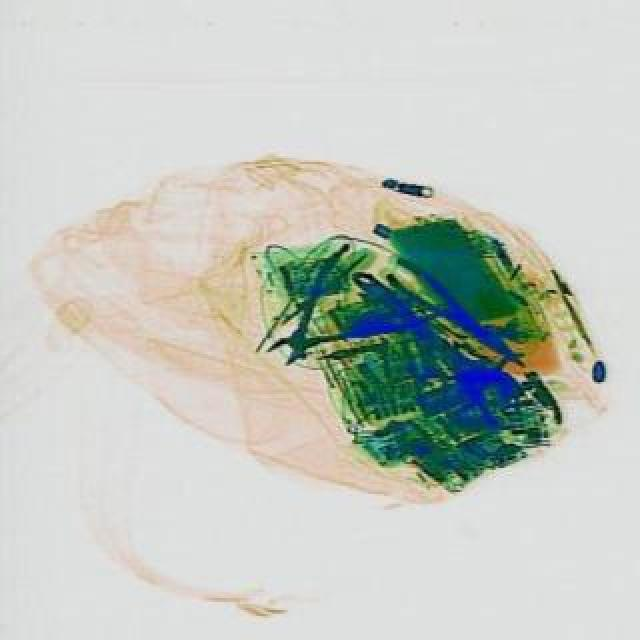scissors: (336, 250, 524, 422)
wrench: (236, 222, 442, 402), (376, 254, 532, 378)
